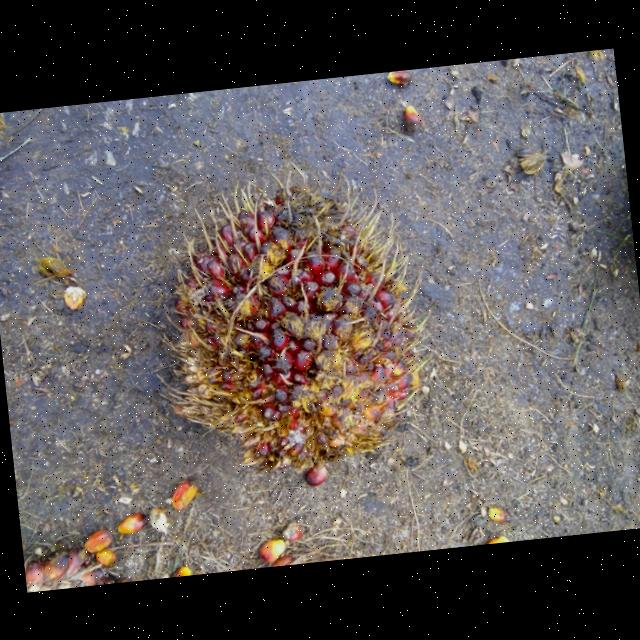Ripe: (168, 183, 428, 487)
